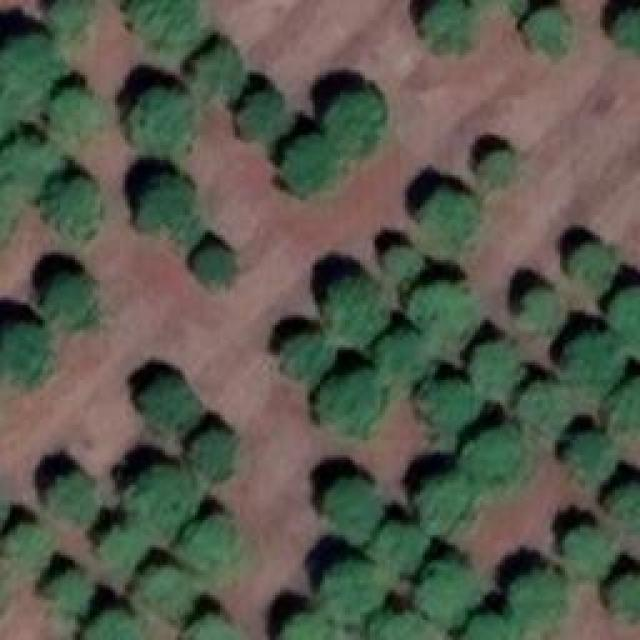Tree: (412, 558, 480, 628), (128, 468, 193, 536), (323, 93, 386, 158), (327, 275, 385, 345), (320, 370, 380, 433), (563, 330, 623, 393), (0, 35, 58, 100), (130, 85, 190, 145), (135, 173, 195, 233), (323, 560, 383, 620), (185, 518, 240, 583), (505, 570, 563, 630), (460, 430, 523, 483), (45, 178, 100, 238), (285, 133, 340, 193), (328, 480, 383, 540), (413, 283, 473, 336), (418, 478, 478, 531), (138, 563, 198, 616), (423, 190, 478, 245), (130, 0, 193, 48), (197, 43, 245, 103), (365, 522, 425, 570), (423, 0, 473, 55), (602, 378, 640, 448), (378, 330, 431, 380), (515, 380, 570, 428), (0, 137, 52, 187), (138, 380, 198, 423), (473, 343, 521, 393), (40, 275, 93, 320), (428, 380, 476, 428), (570, 432, 618, 480), (567, 525, 615, 573), (0, 325, 48, 373), (50, 475, 98, 523), (283, 330, 336, 373), (240, 90, 283, 140), (610, 287, 640, 355), (53, 85, 98, 130), (525, 8, 570, 53), (190, 430, 233, 475), (100, 528, 141, 572), (45, 570, 90, 610), (85, 610, 145, 640), (570, 245, 610, 288), (280, 612, 338, 640), (460, 612, 518, 640), (367, 615, 425, 640), (610, 572, 640, 620), (5, 525, 48, 558), (523, 288, 556, 328), (612, 8, 640, 53), (187, 617, 240, 640), (50, 0, 87, 32), (480, 150, 513, 185), (198, 245, 231, 280), (612, 485, 640, 525), (388, 245, 423, 275)
